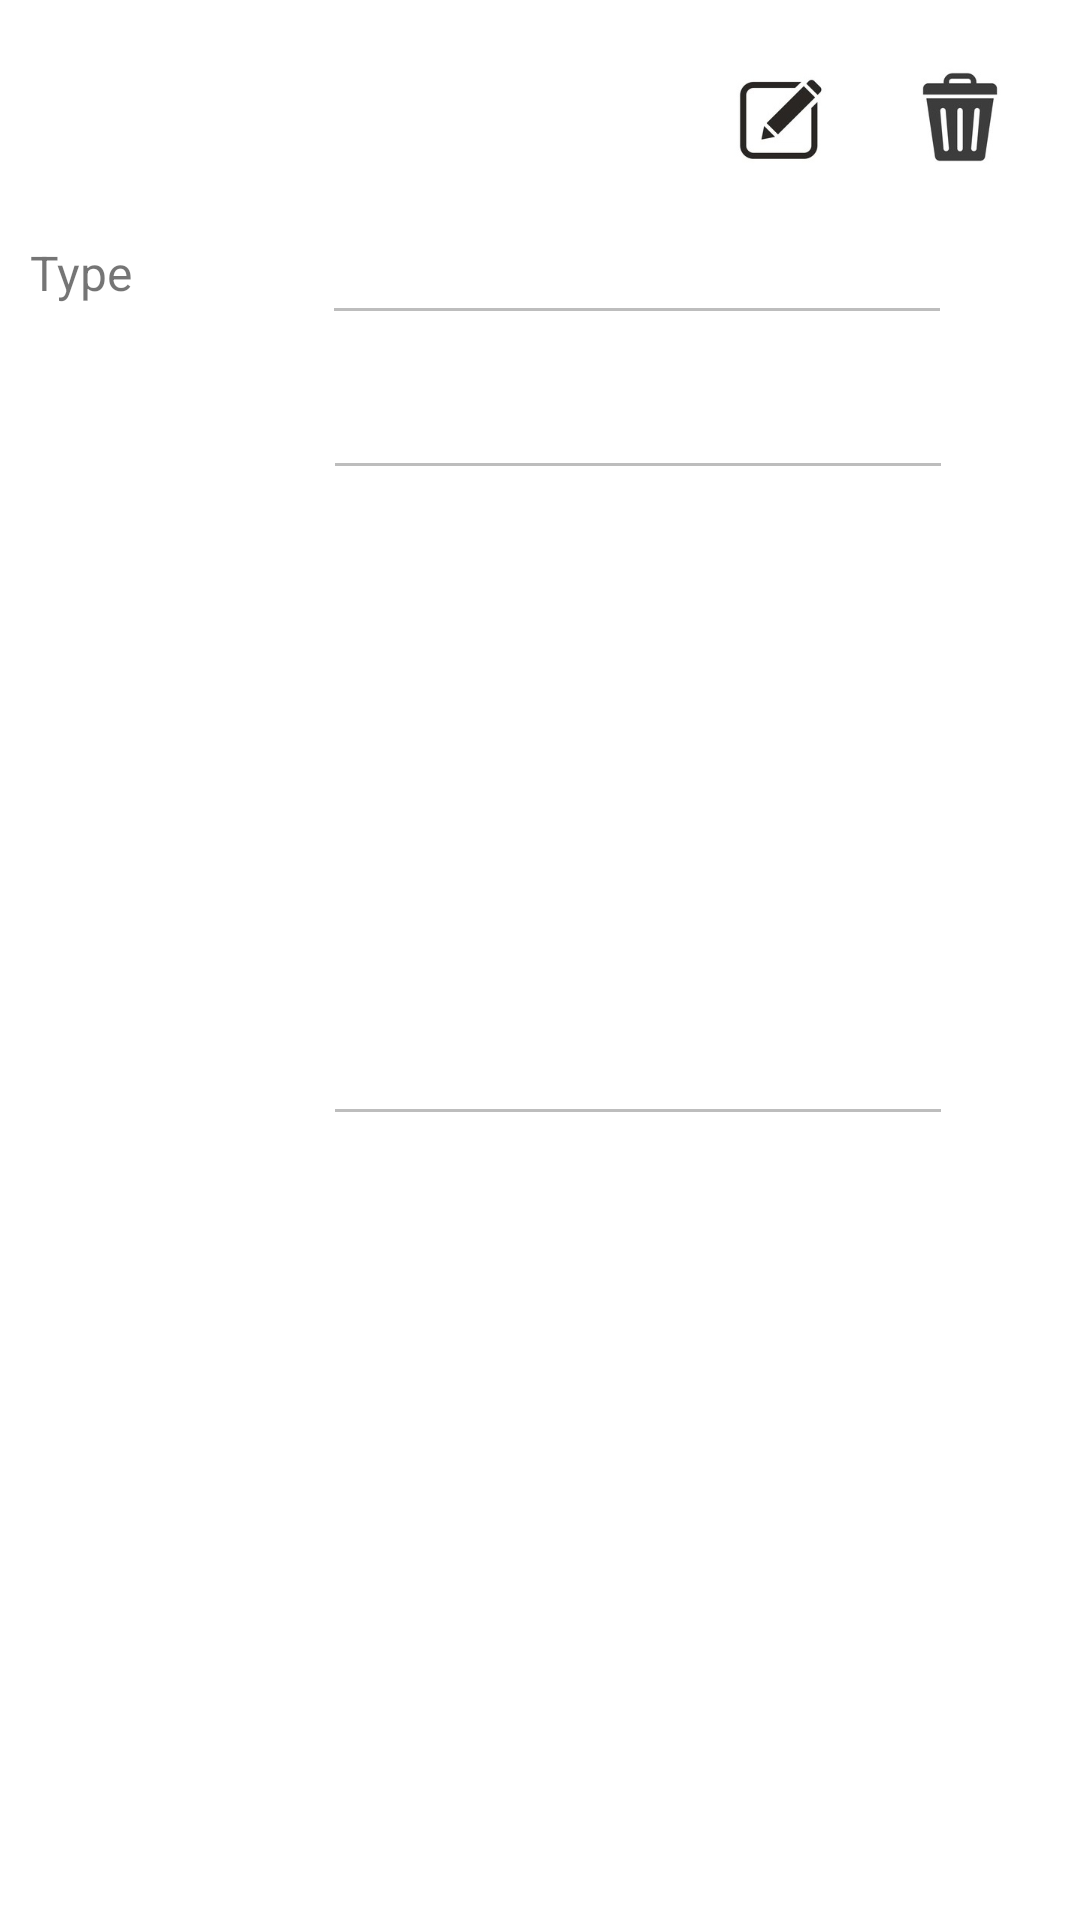

Icons on this 1080w x 1920h Android screen, each with its box as Rect(x1, y1, x2, y2):
delete: Rect(923, 73, 998, 161)
edit: Rect(740, 79, 822, 159)
